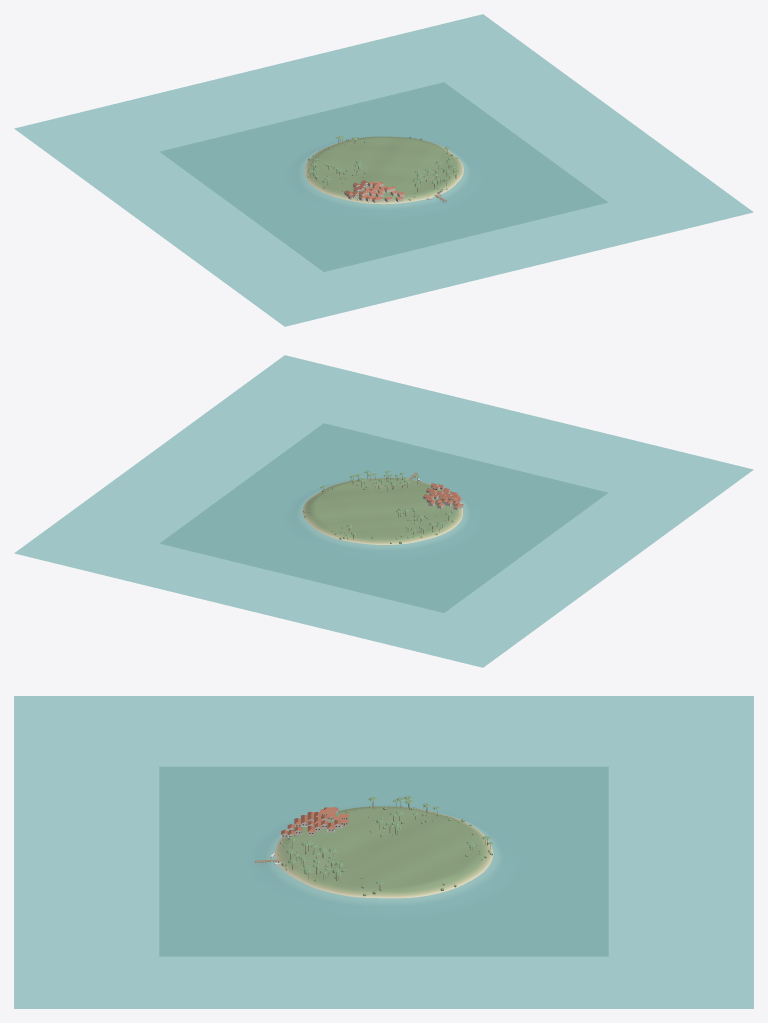
File: coast.glb
3 views of the same model, one above another, from view 1: azimuth 30°, elevation 25°; view 2: azimuth 150°, elevation 25°; view 3: azimuth 270°, elevation 25° (orthographic). The views are drawn at different scales.
Parts seen in each view (by area): view 1: ENV_Water, ENV_Terrain; view 2: ENV_Water, ENV_Terrain; view 3: ENV_Water, ENV_Terrain.
Part boxes in pixels (<box>): ENV_Water: <box>14,14,753,326</box>; ENV_Terrain: <box>161,83,607,271</box>; ENV_Water: <box>14,355,753,667</box>; ENV_Terrain: <box>160,424,606,612</box>; ENV_Water: <box>14,696,753,1008</box>; ENV_Terrain: <box>160,767,607,955</box>.
Bounding box in the file's own units: 560 × 20.5 × 560.
